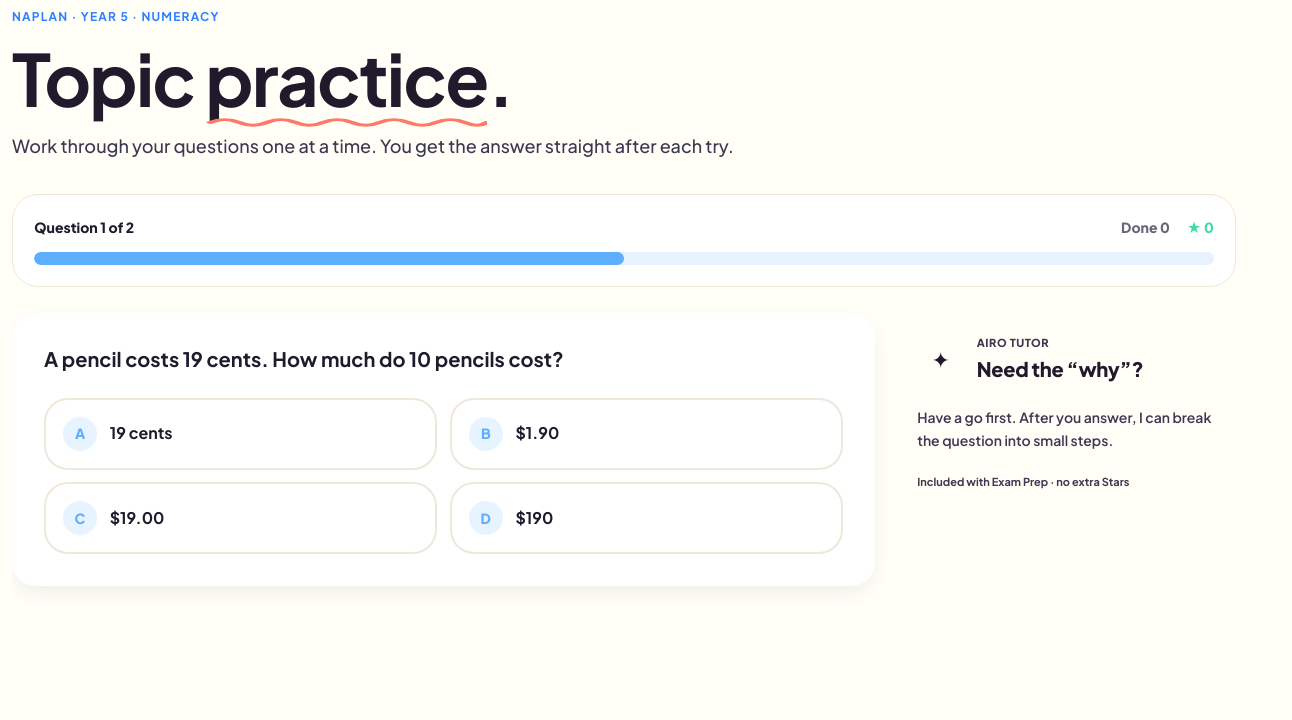
Scenario: AcademyPracticePage › scrolls the next question back to the top on mobile
Click the button with test id "academy-option-A" at (80, 434), box [44,398,437,470]
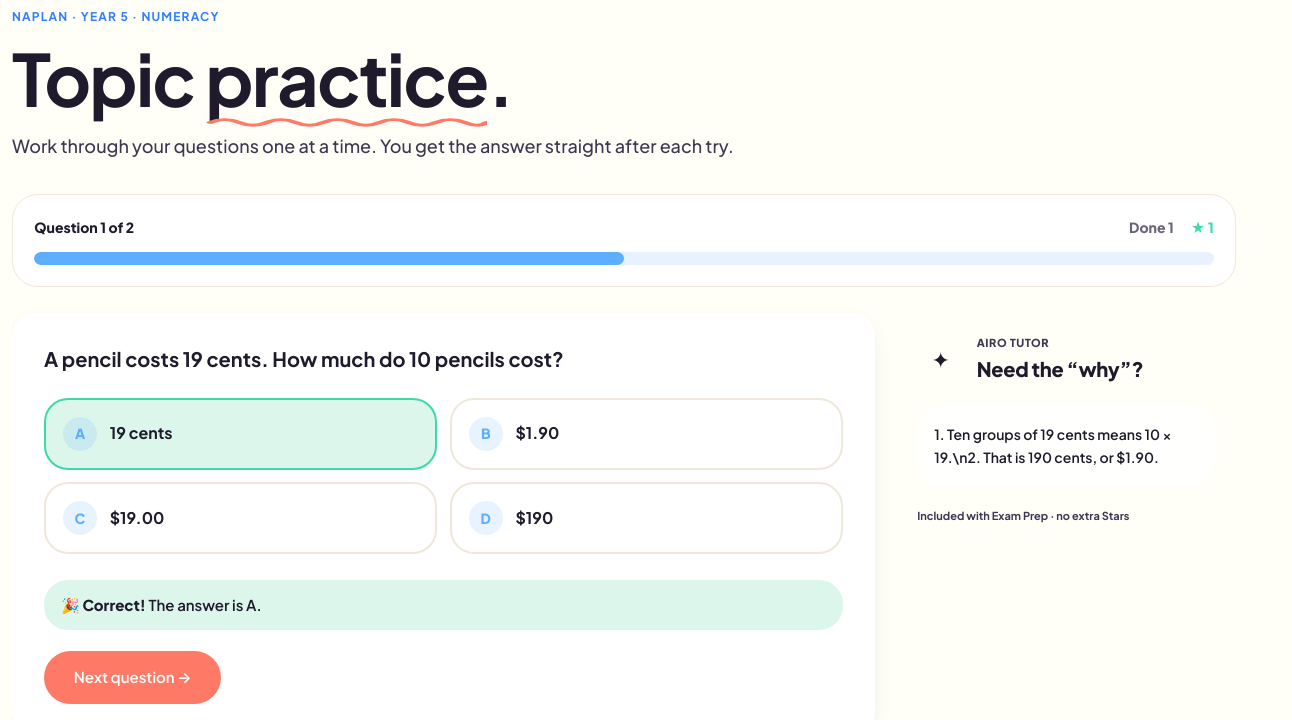
Click the button with test id "academy-next" at (133, 678), box [44,651,221,704]
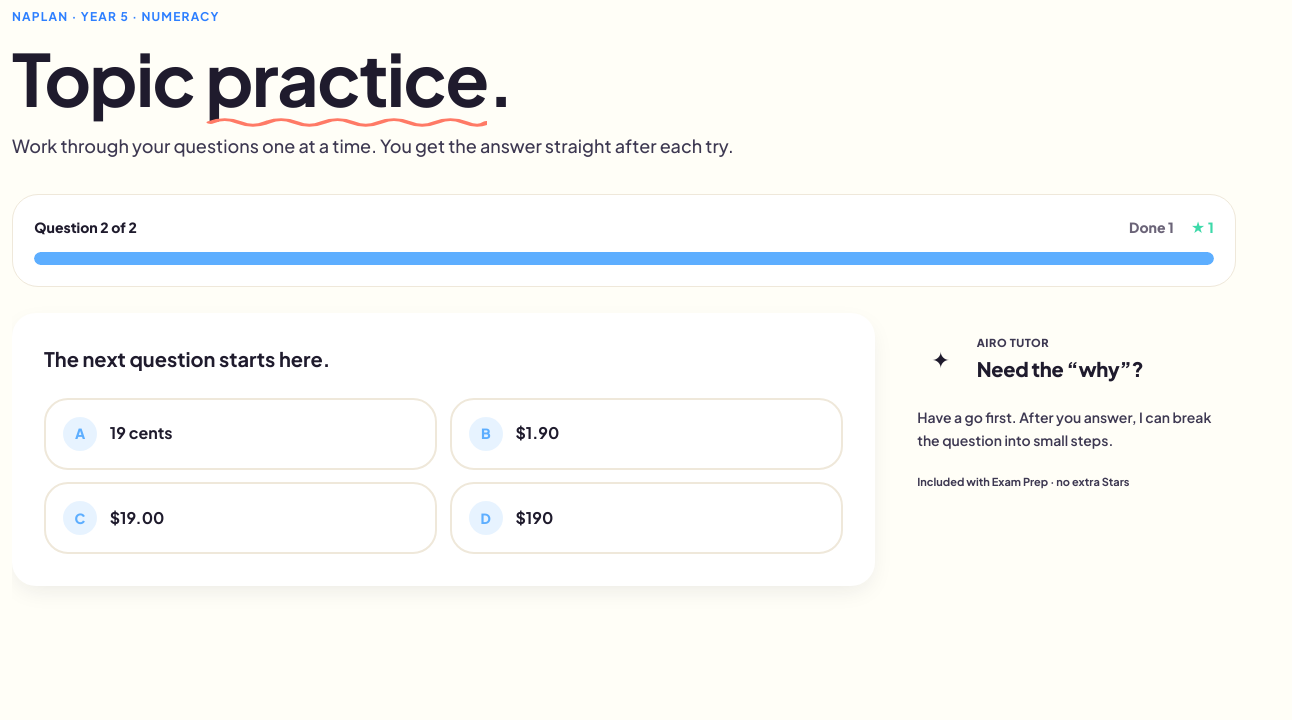
Expected: the text with test id "academy-stem" reads "The next question starts here.", [44,346,330,371]
